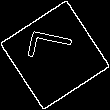L_E: (27, 35, 83, 75)
